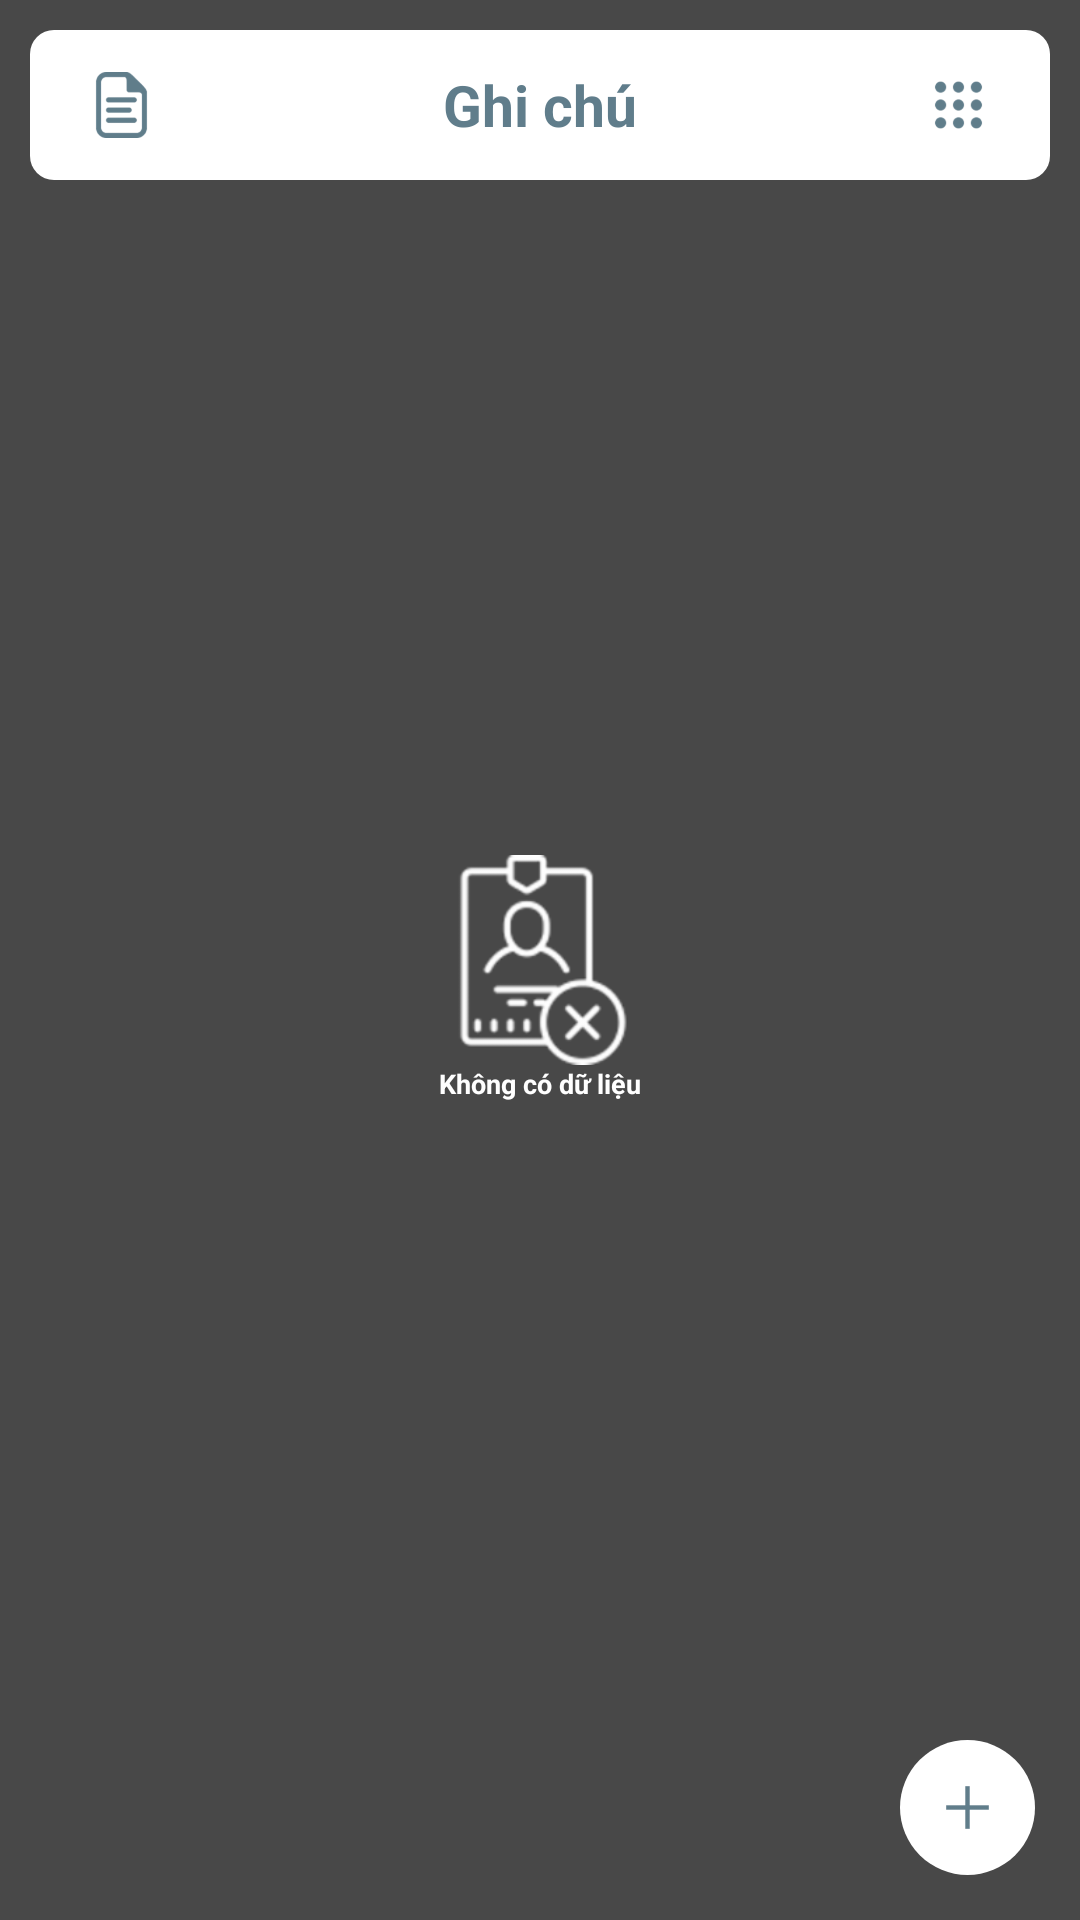

Icons on this 1080 × 1920 Android screen, each with its box as detection(x1, y1, x2, y2):
add: detection(946, 1786, 989, 1829)
file: detection(96, 72, 147, 138)
menu: detection(935, 81, 982, 129)
